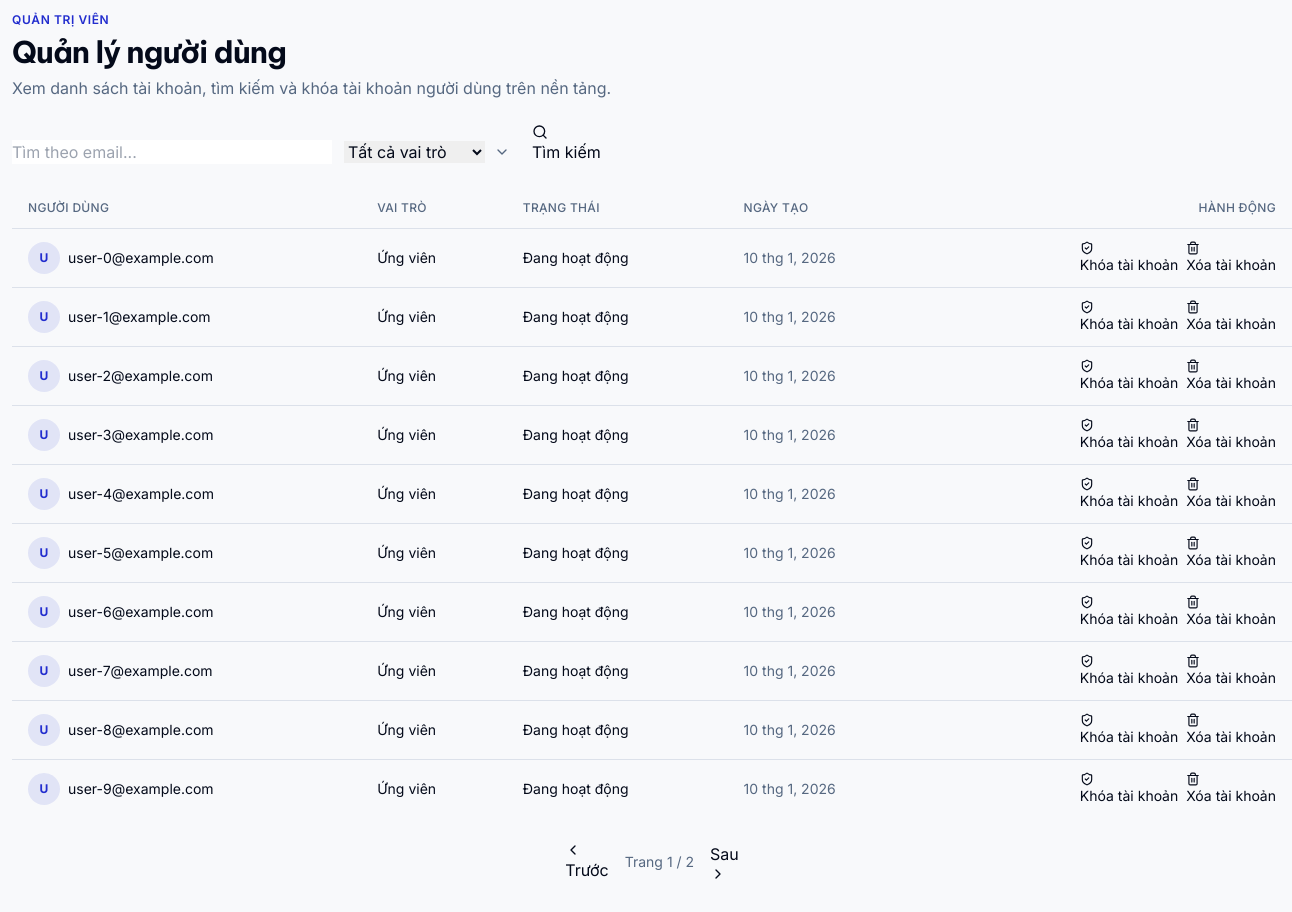
Test: AdminUsersPage › paginates to the next page with the correct skip
Expected: the text "Trang 1 / 2" is shown, [625,853,694,870]
Click the button with aria-label "Trang sau" at (724, 862), box [710,842,739,882]
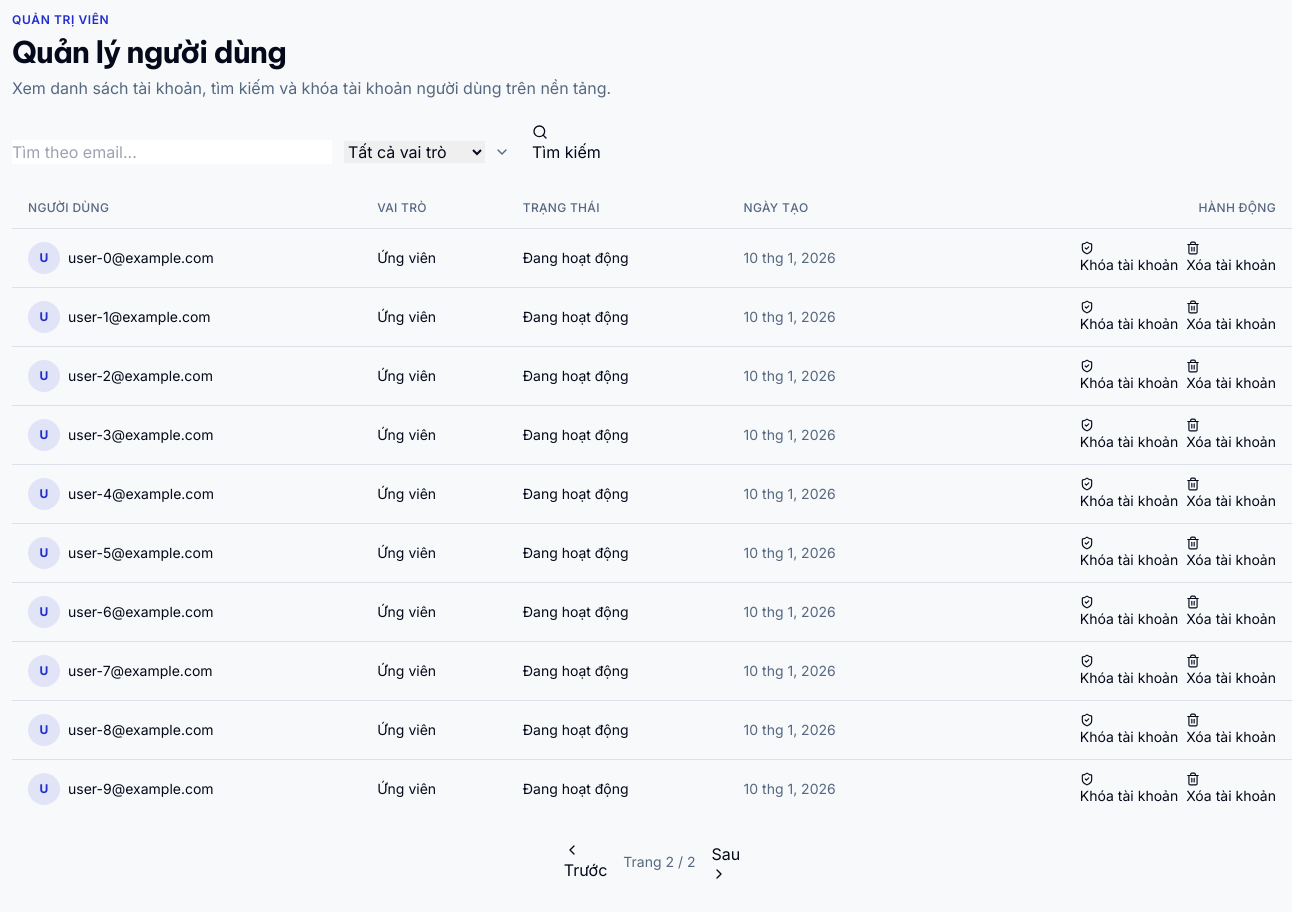
Now the text "Trang 2 / 2" is shown, box [623,853,696,870]
